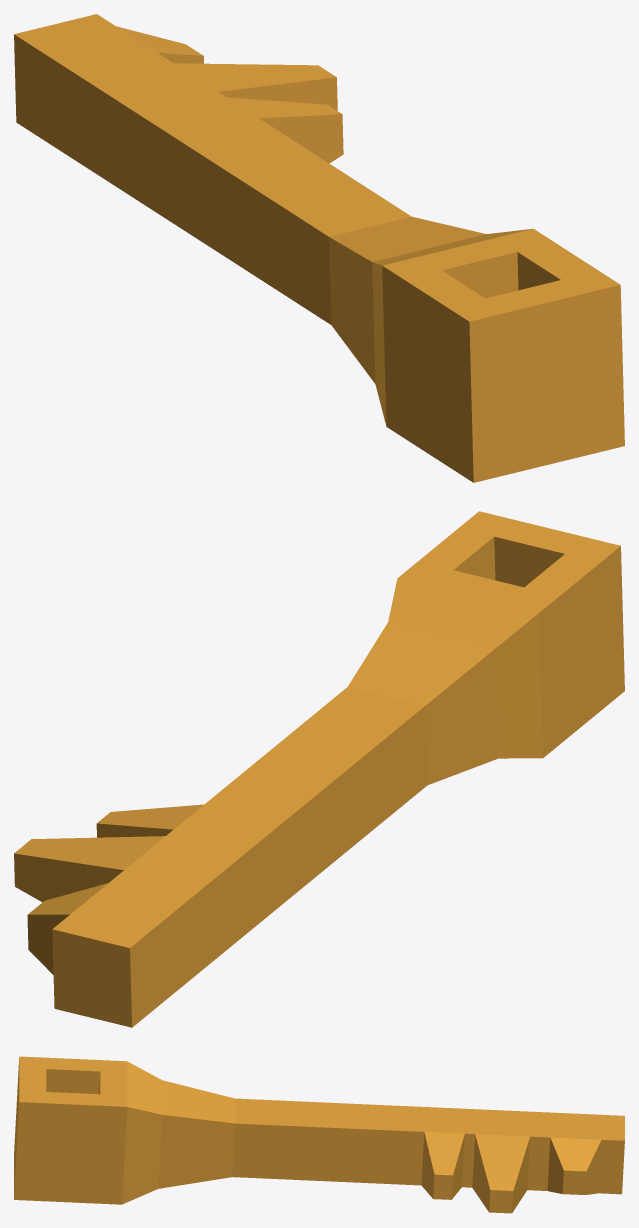
The model's file is key.fbx.
3 views of the same model, one above another, from view 1: azimuth 30°, elevation 25°; view 2: azimuth 150°, elevation 25°; view 3: azimuth 270°, elevation 25° (orthographic). The views are drawn at different scales.
Visible parts, largest first — view 1: Cube; view 2: Cube; view 3: Cube.
Boxes of the visible parts, x1,y1,x2,y2 form: Cube: [14, 14, 624, 482]; Cube: [14, 511, 624, 1027]; Cube: [14, 1056, 624, 1213].
Bounding box in the file's own units: 328 × 210 × 1131.
